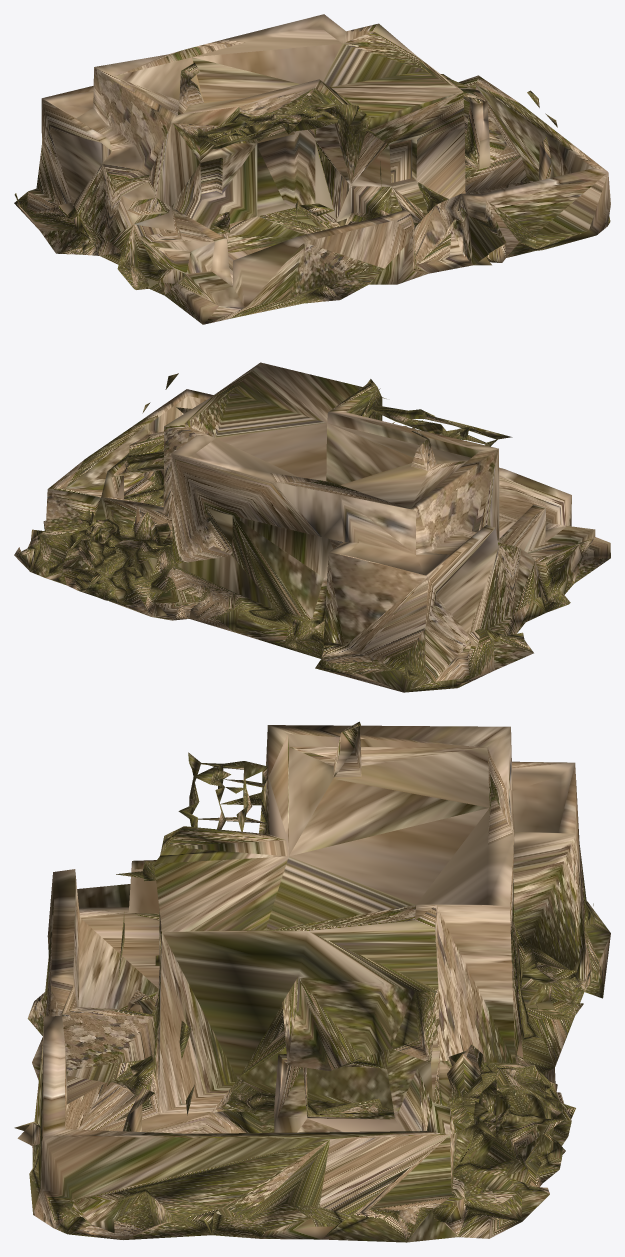
The model's file is Olive_Grove_Cottage.glb.
3 views of the same model, one above another, from view 1: azimuth 30°, elevation 25°; view 2: azimuth 150°, elevation 25°; view 3: azimuth 270°, elevation 25° (orthographic). The views are drawn at different scales.
Visible parts, largest first — view 1: Olive_Grove_Cottage; view 2: Olive_Grove_Cottage; view 3: Olive_Grove_Cottage.
Part boxes in pixels (x1,y1,x2,y2): Olive_Grove_Cottage: [14, 14, 610, 324]; Olive_Grove_Cottage: [14, 362, 610, 692]; Olive_Grove_Cottage: [14, 721, 610, 1242].
Bounding box in the file's own units: 1.8 × 0.6316 × 1.3.
1 material, 1 textured.
